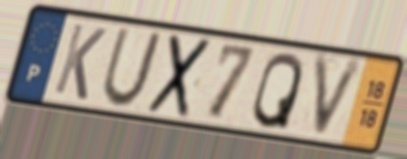7: (207, 41, 257, 124)
K: (51, 21, 110, 104)
Q: (249, 50, 306, 132)
U: (98, 26, 166, 111)
V: (309, 50, 370, 144)
X: (143, 32, 215, 121)
